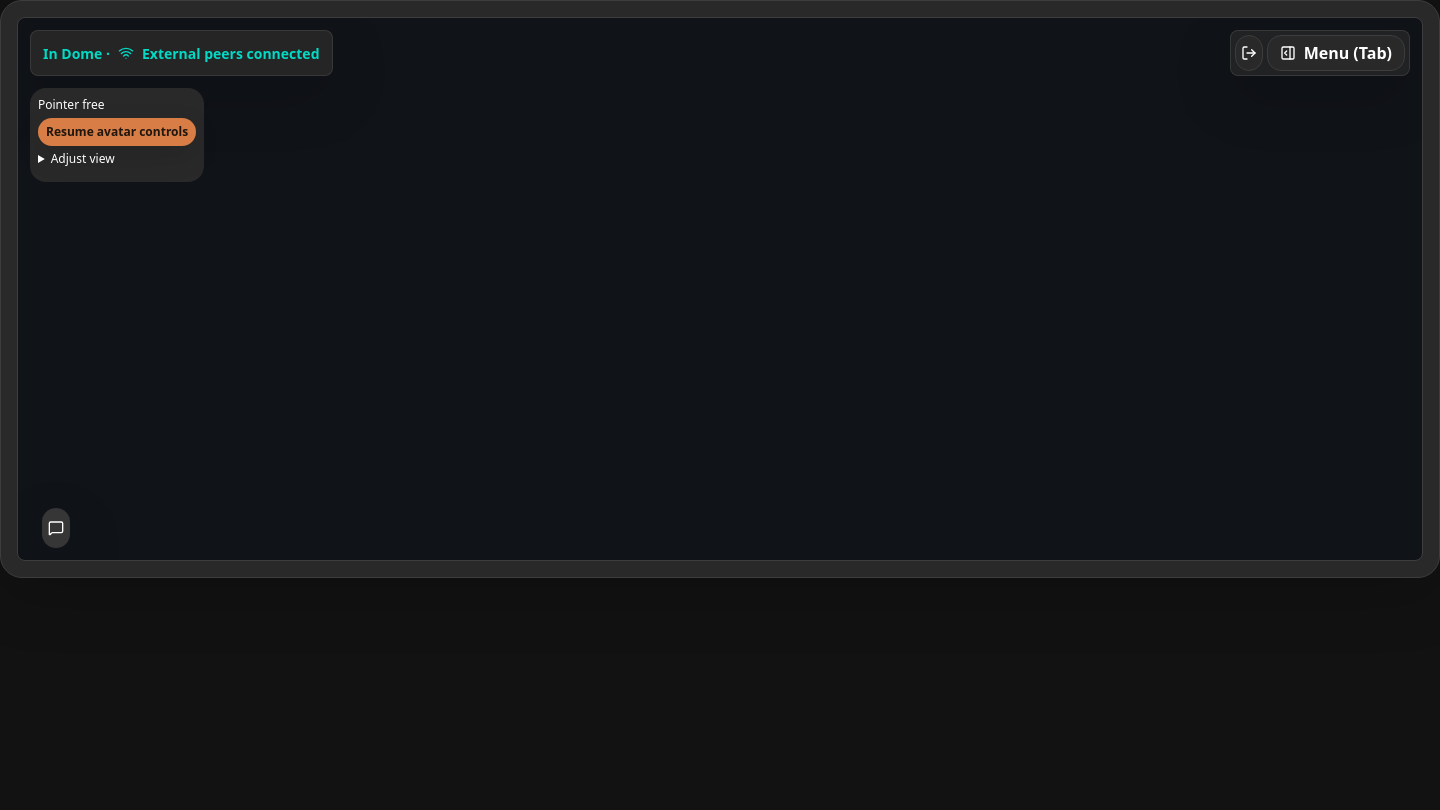
Scenario: MetaverseRoomView › provides explicit camera control and a pointer lock resume action
This screenshot has width=1440, height=810.
Expected: the button "Resume avatar controls" is enabled, [38,118,196,146]
Click the heading "Adjust view": coordinates (83, 158) [51,150,115,167]
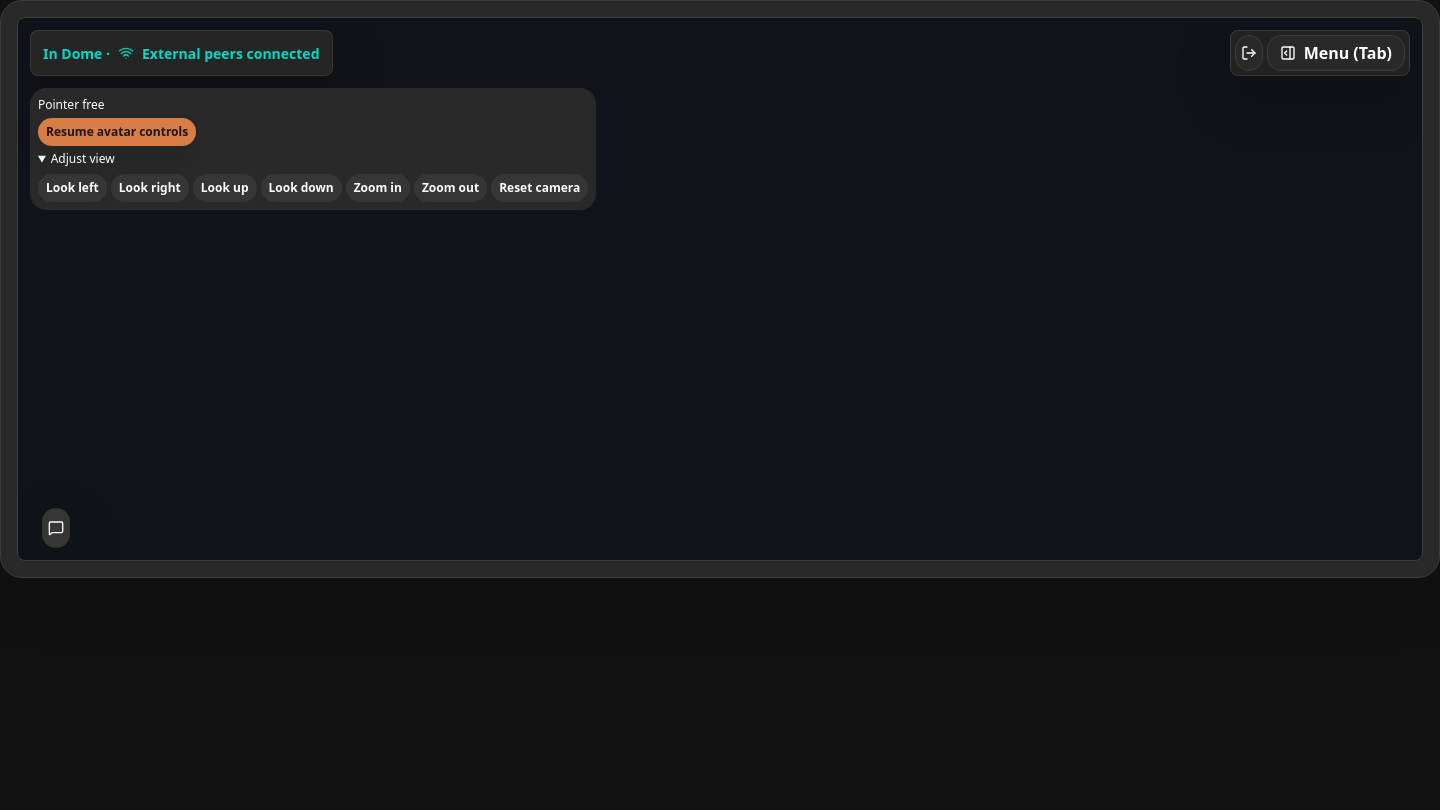
Expected: the button "Reset camera" is enabled, [491,174,588,202]
